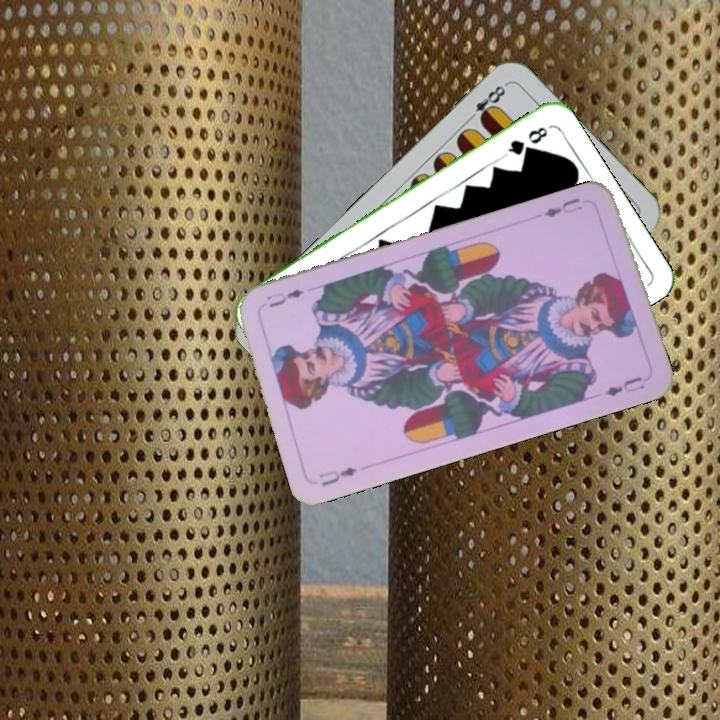E8: (462, 80, 510, 126)
EU: (540, 194, 585, 220), (315, 463, 360, 489)
G8: (499, 122, 551, 160)
